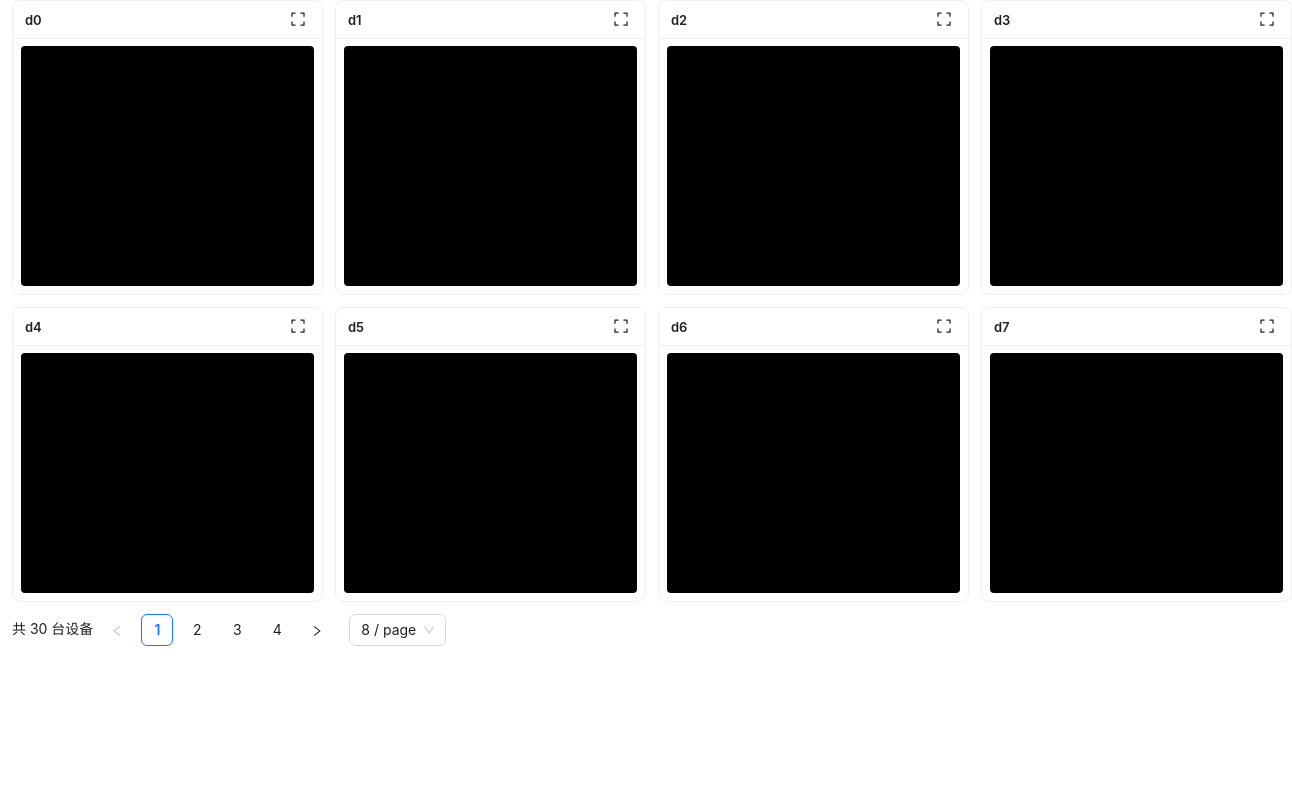
Scenario: paginates instead of streaming every device at once when there are many
The image size is (1292, 800).
Expected: the text "d0" is shown, [25,12,42,28]
Expected: the text "d7" is shown, [994,318,1010,334]
Step 1. Click the list item titled "2" → [197, 630], box [181,614,213,646]
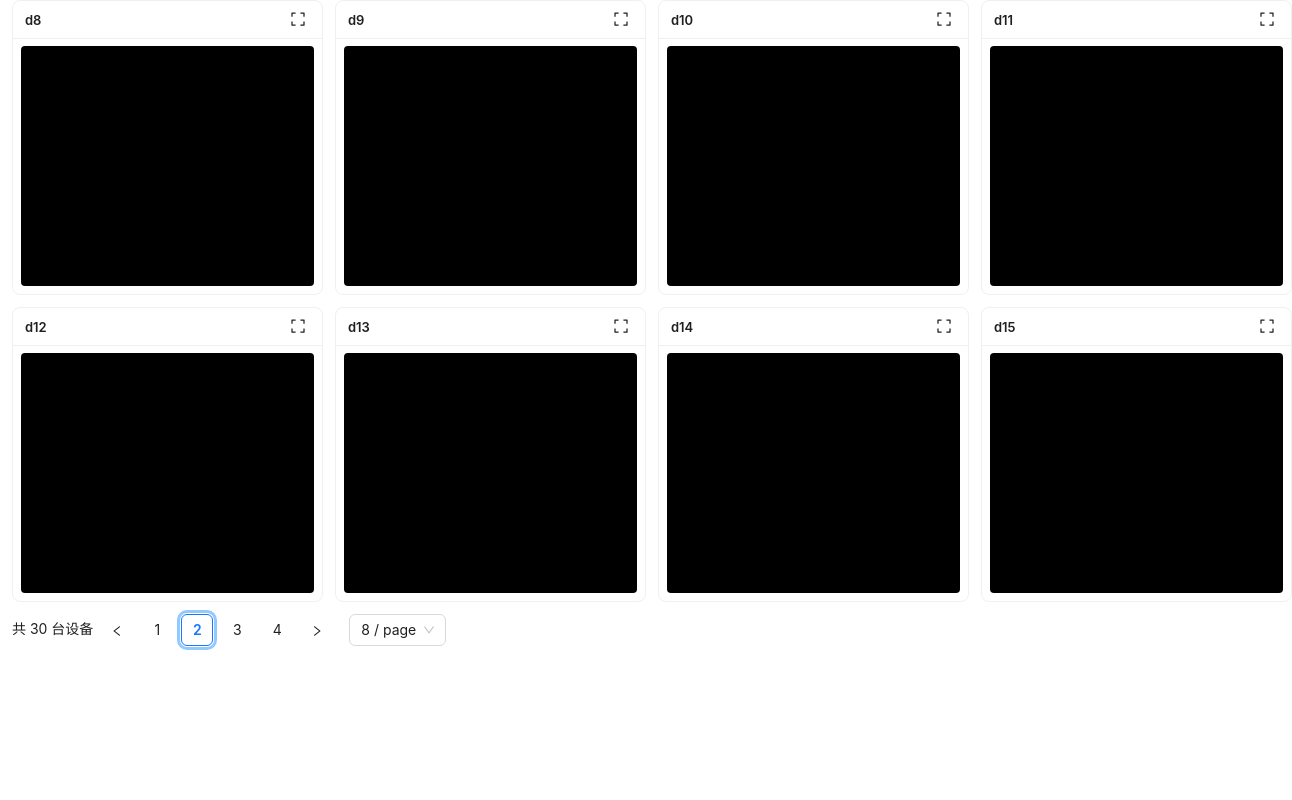
Expected: the text "d0" is gone
Expected: the text "d8" is shown, [25,12,41,28]
